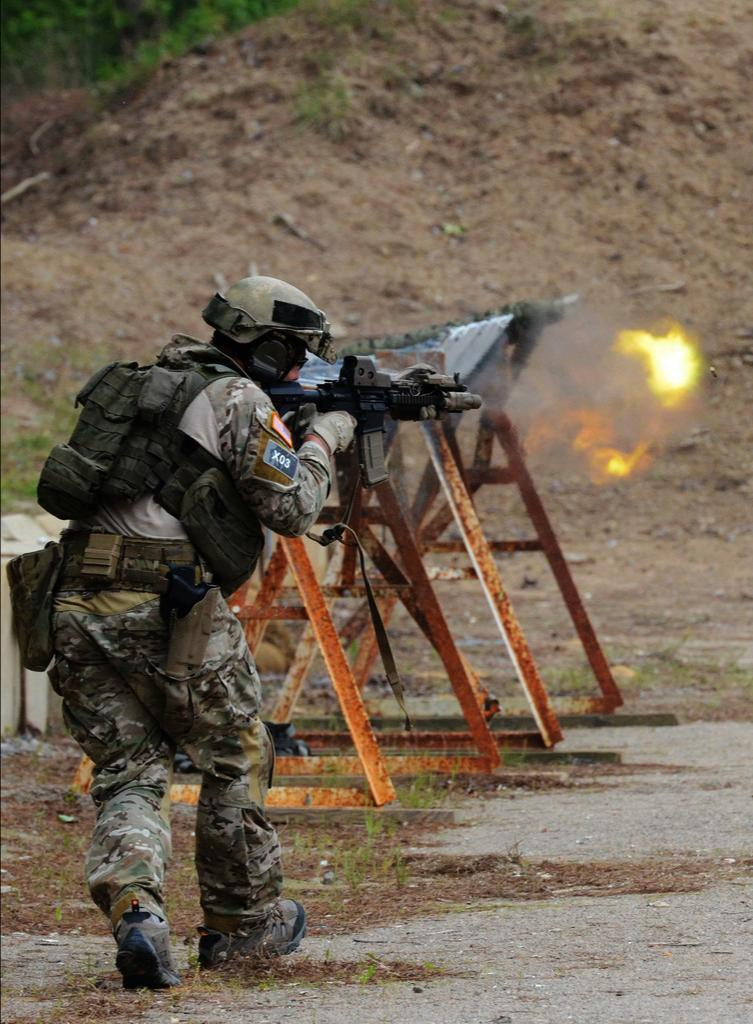gun: (278, 353, 485, 476)
